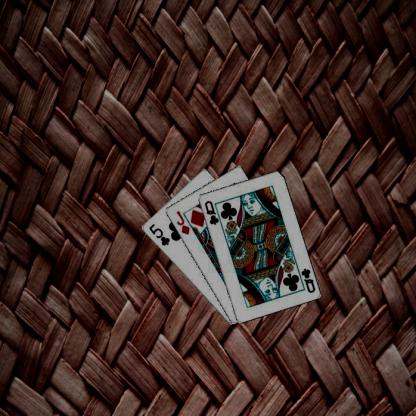5C: (146, 221, 171, 247)
JD: (173, 208, 191, 236)
QC: (202, 198, 220, 226), (298, 266, 316, 294)
